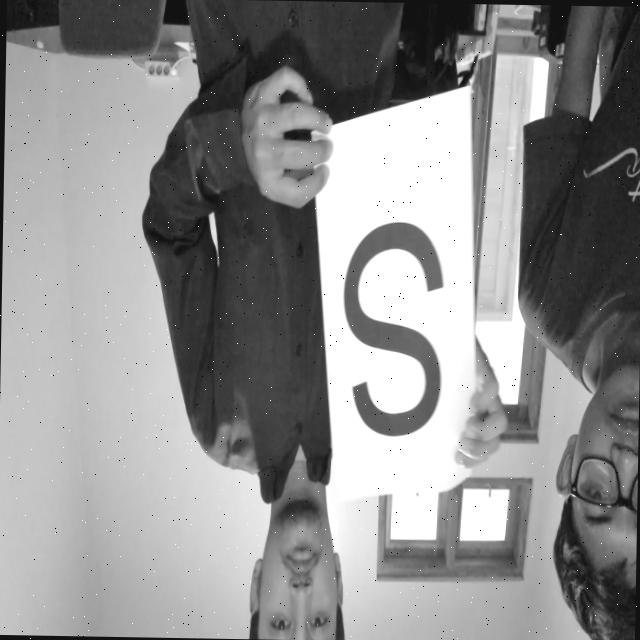s: (326, 206, 454, 444)
